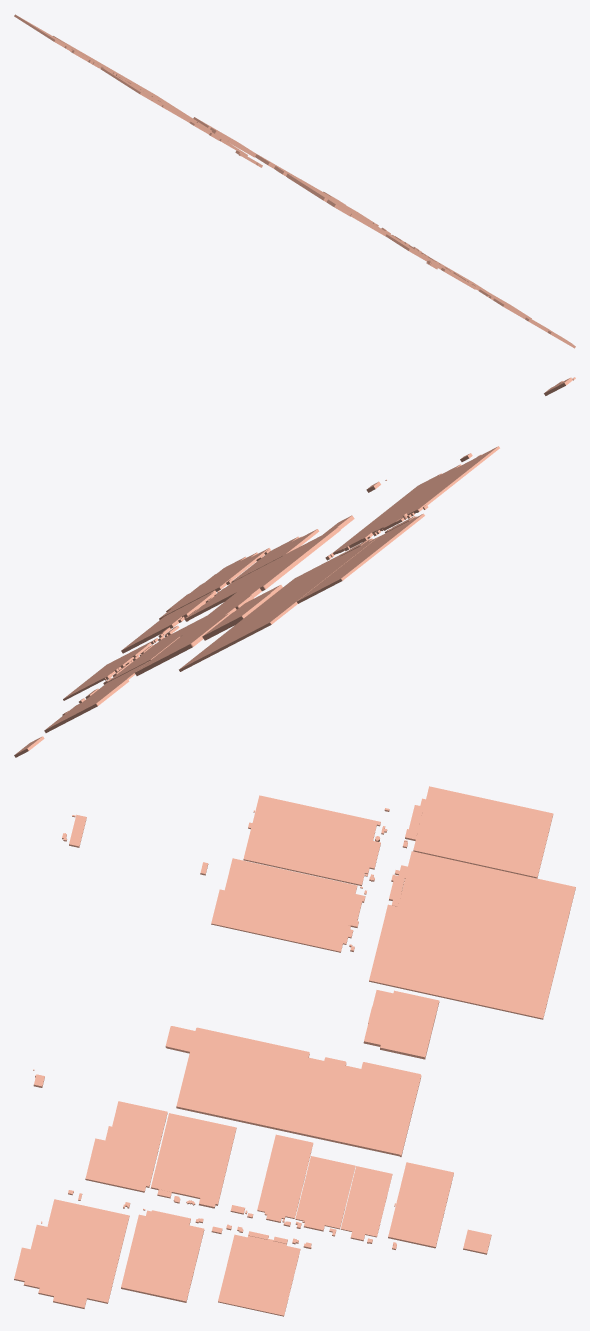
3 renders of one model, top to bottom at view 1: azimuth 30°, elevation 25°; view 2: azimuth 150°, elevation 25°; view 3: azimuth 270°, elevation 25°, orthographic. The views are drawn at different scales.
Bounding box in the file's own units: 1143 × 866 × 1337.
